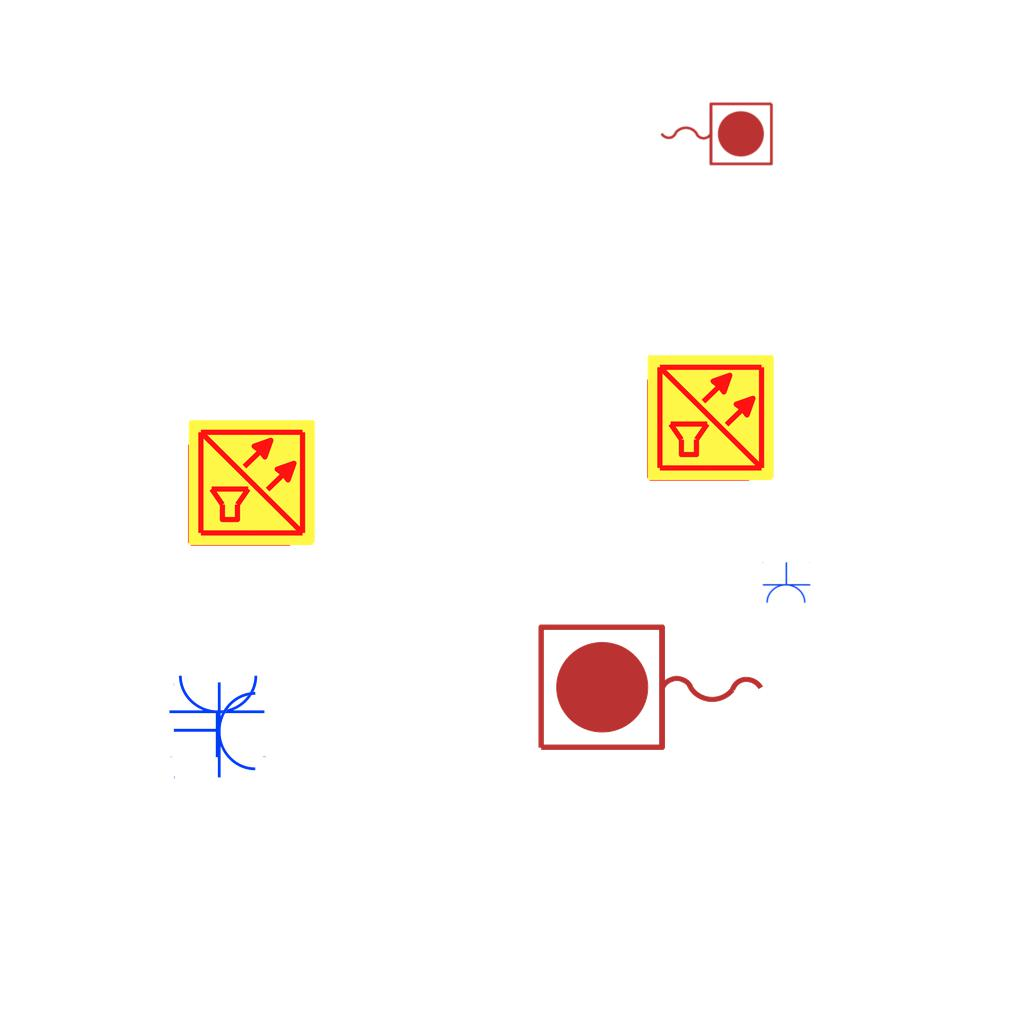OKW_Multisensormelder_(Kombination_optischer_Rauch-Kahlenmonoxid_Waerme-Melder): (645, 352, 777, 484), (186, 417, 318, 549)
Schukosteckdose_einfach: (168, 671, 268, 758), (173, 681, 260, 781), (761, 562, 811, 605)
Zugtaster: (530, 617, 774, 761), (655, 97, 777, 169)
